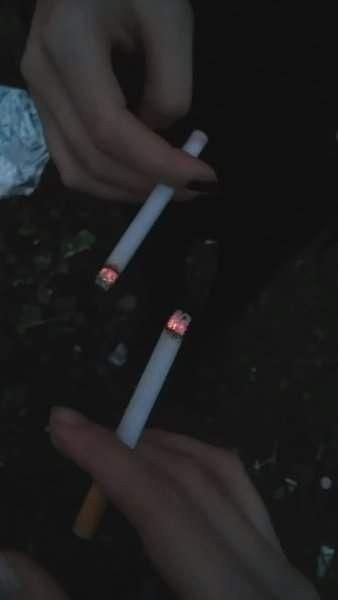cigarette: (72, 310, 193, 541), (95, 128, 209, 291)
